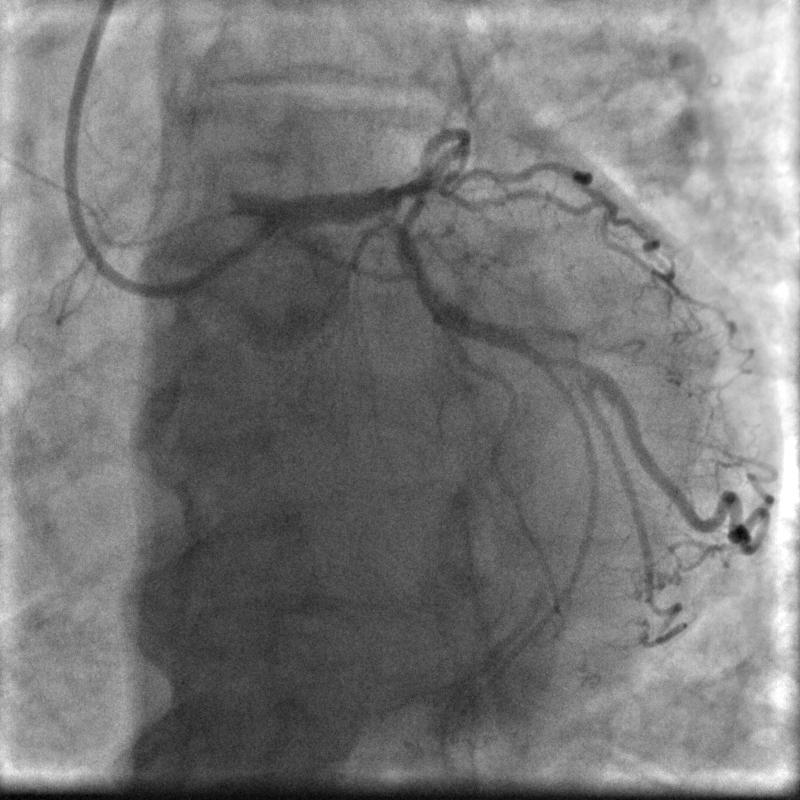Stenosis: (544, 351, 596, 378)
